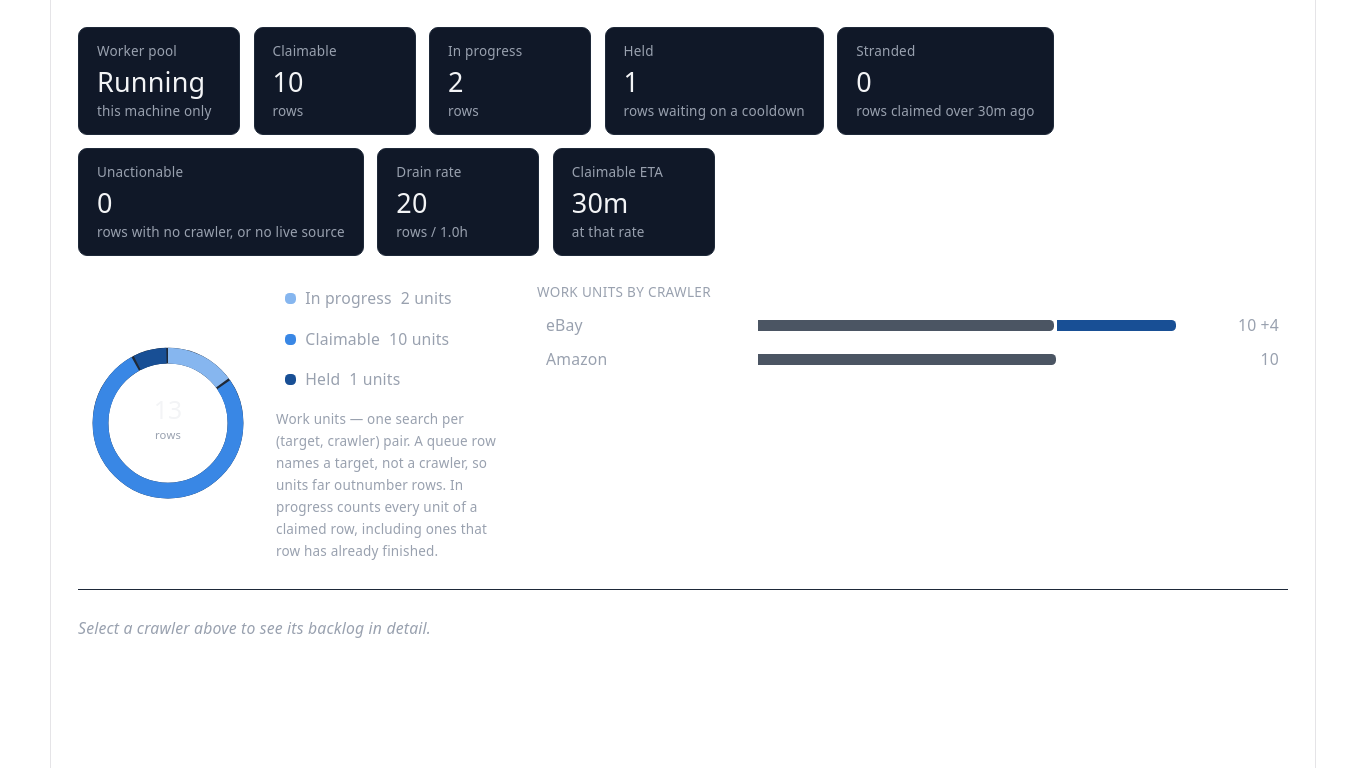
Test: QueueView › restores the selection when the filter is cleared
What coordinates should you click on to do the following:
click the button "Amazon 10"
I would click on:
 (912, 359)
Its box is left=537, top=344, right=1288, bottom=375.
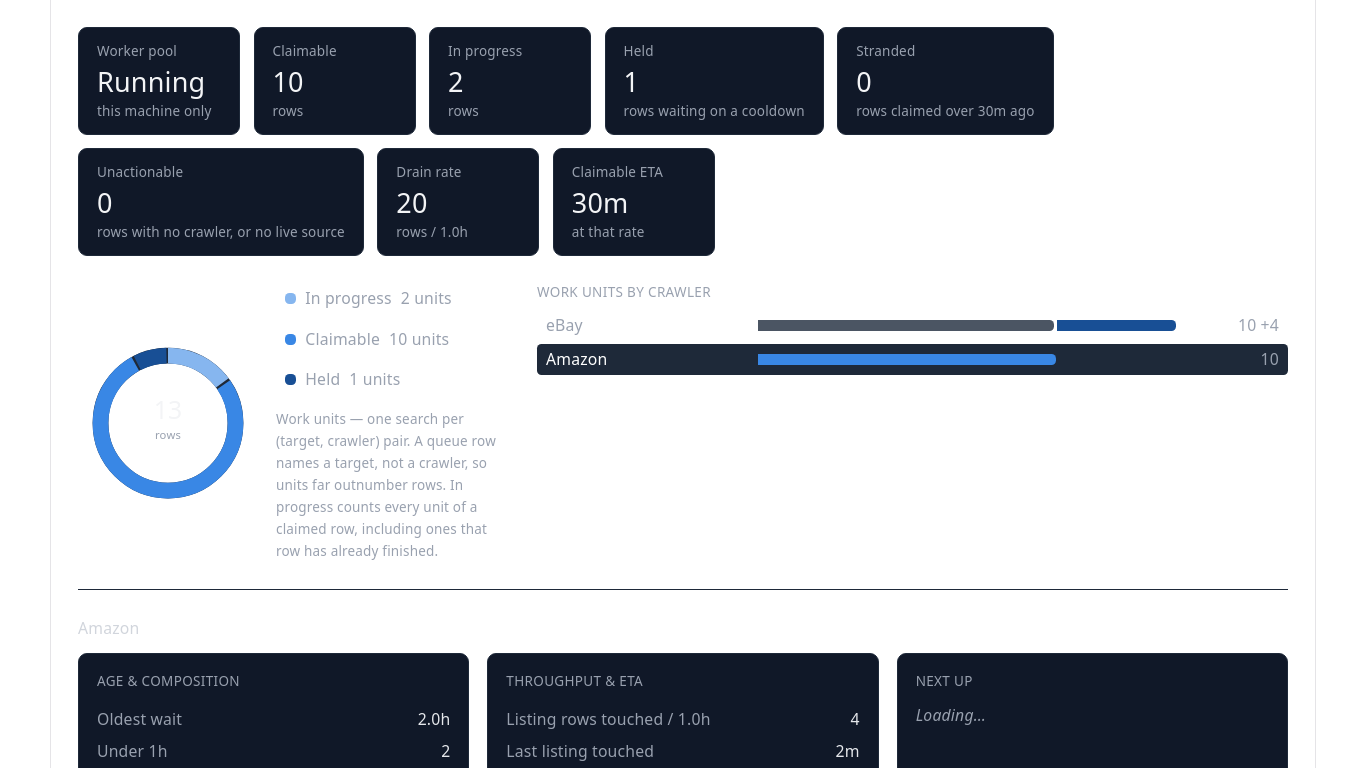
What coordinates should you click on to do the following:
click the button "Held 1 units"
I would click on:
 (393, 380)
Its box is left=276, top=364, right=510, bottom=395.
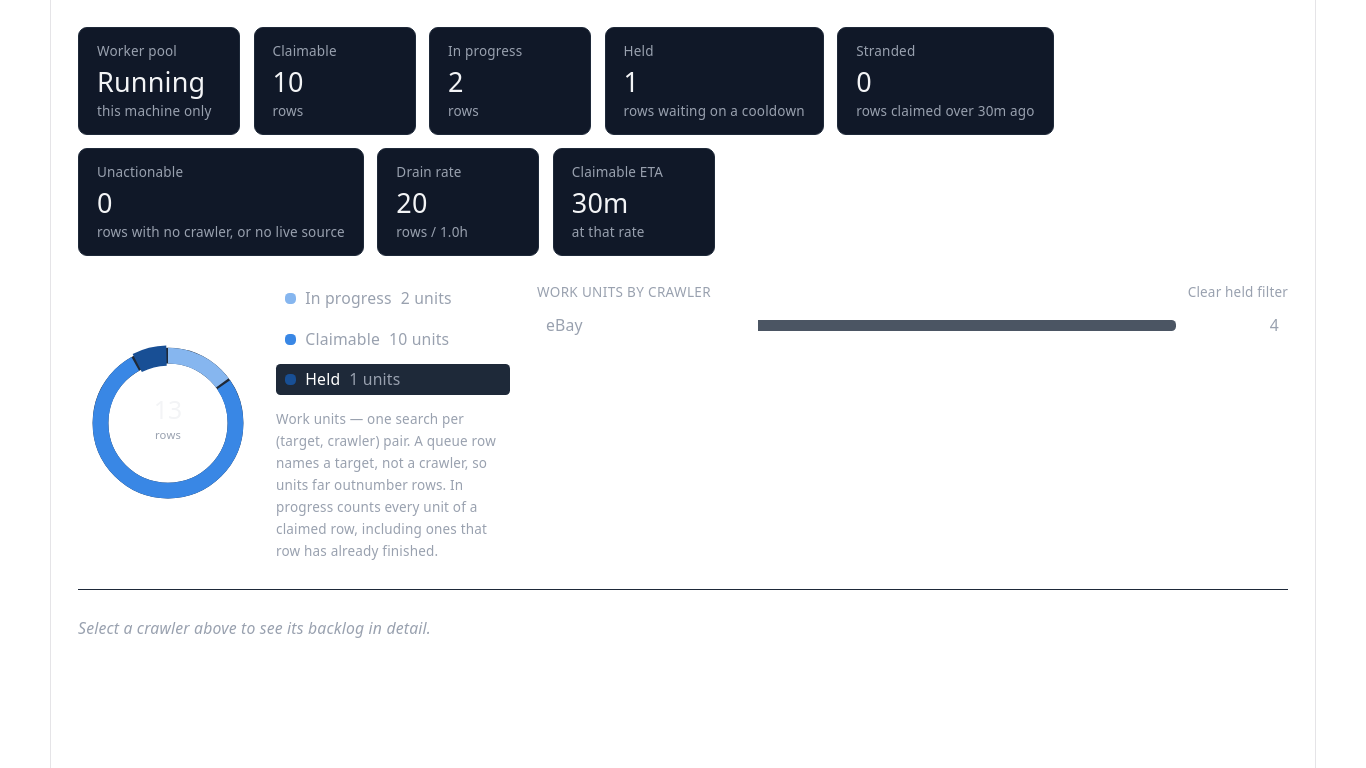
Check: the text "Age & composition" is gone
Note: Hiding is a view change, not a destruction of the selection.
What coordinates should you click on to do the following:
click the button "Held 1 units"
I would click on:
 (393, 380)
Its box is left=276, top=364, right=510, bottom=395.
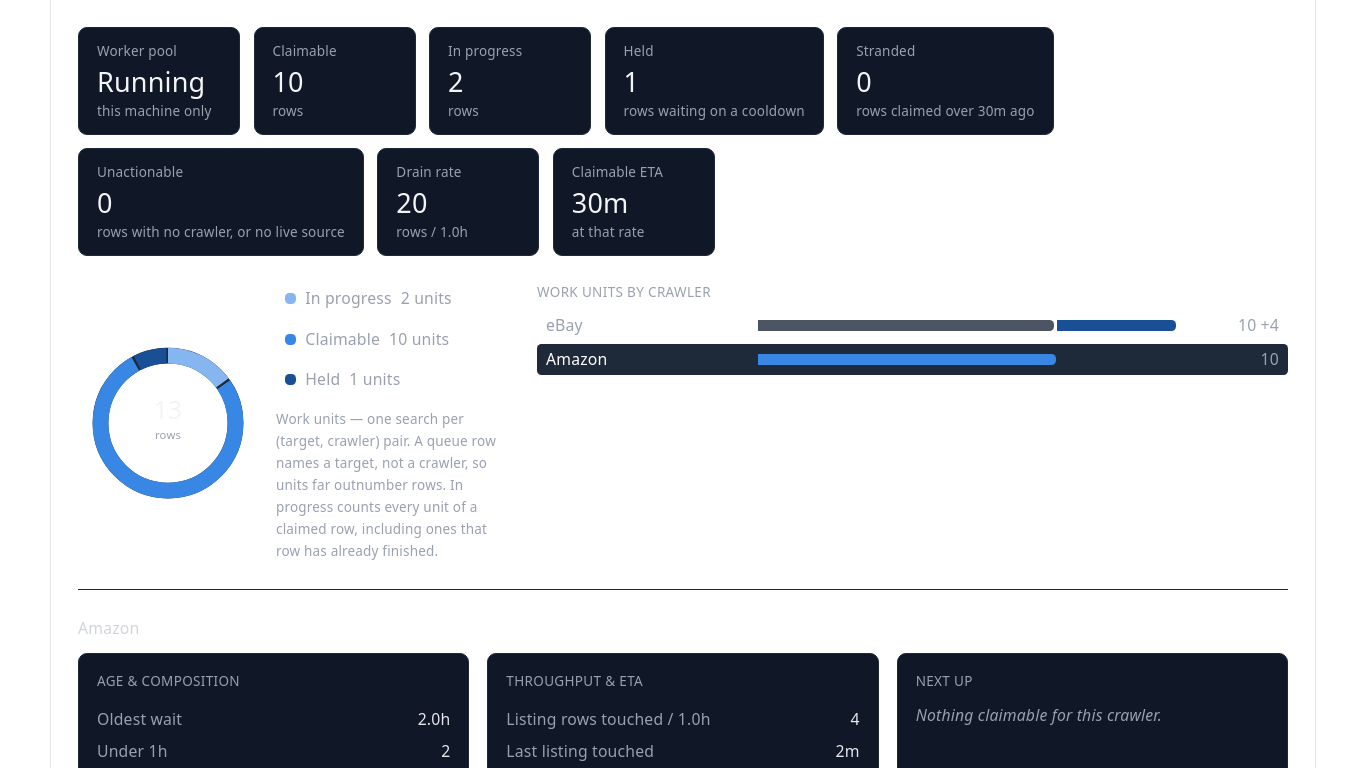
Check: the text "Age & composition" is shown, box left=97, top=672, right=240, bottom=690
